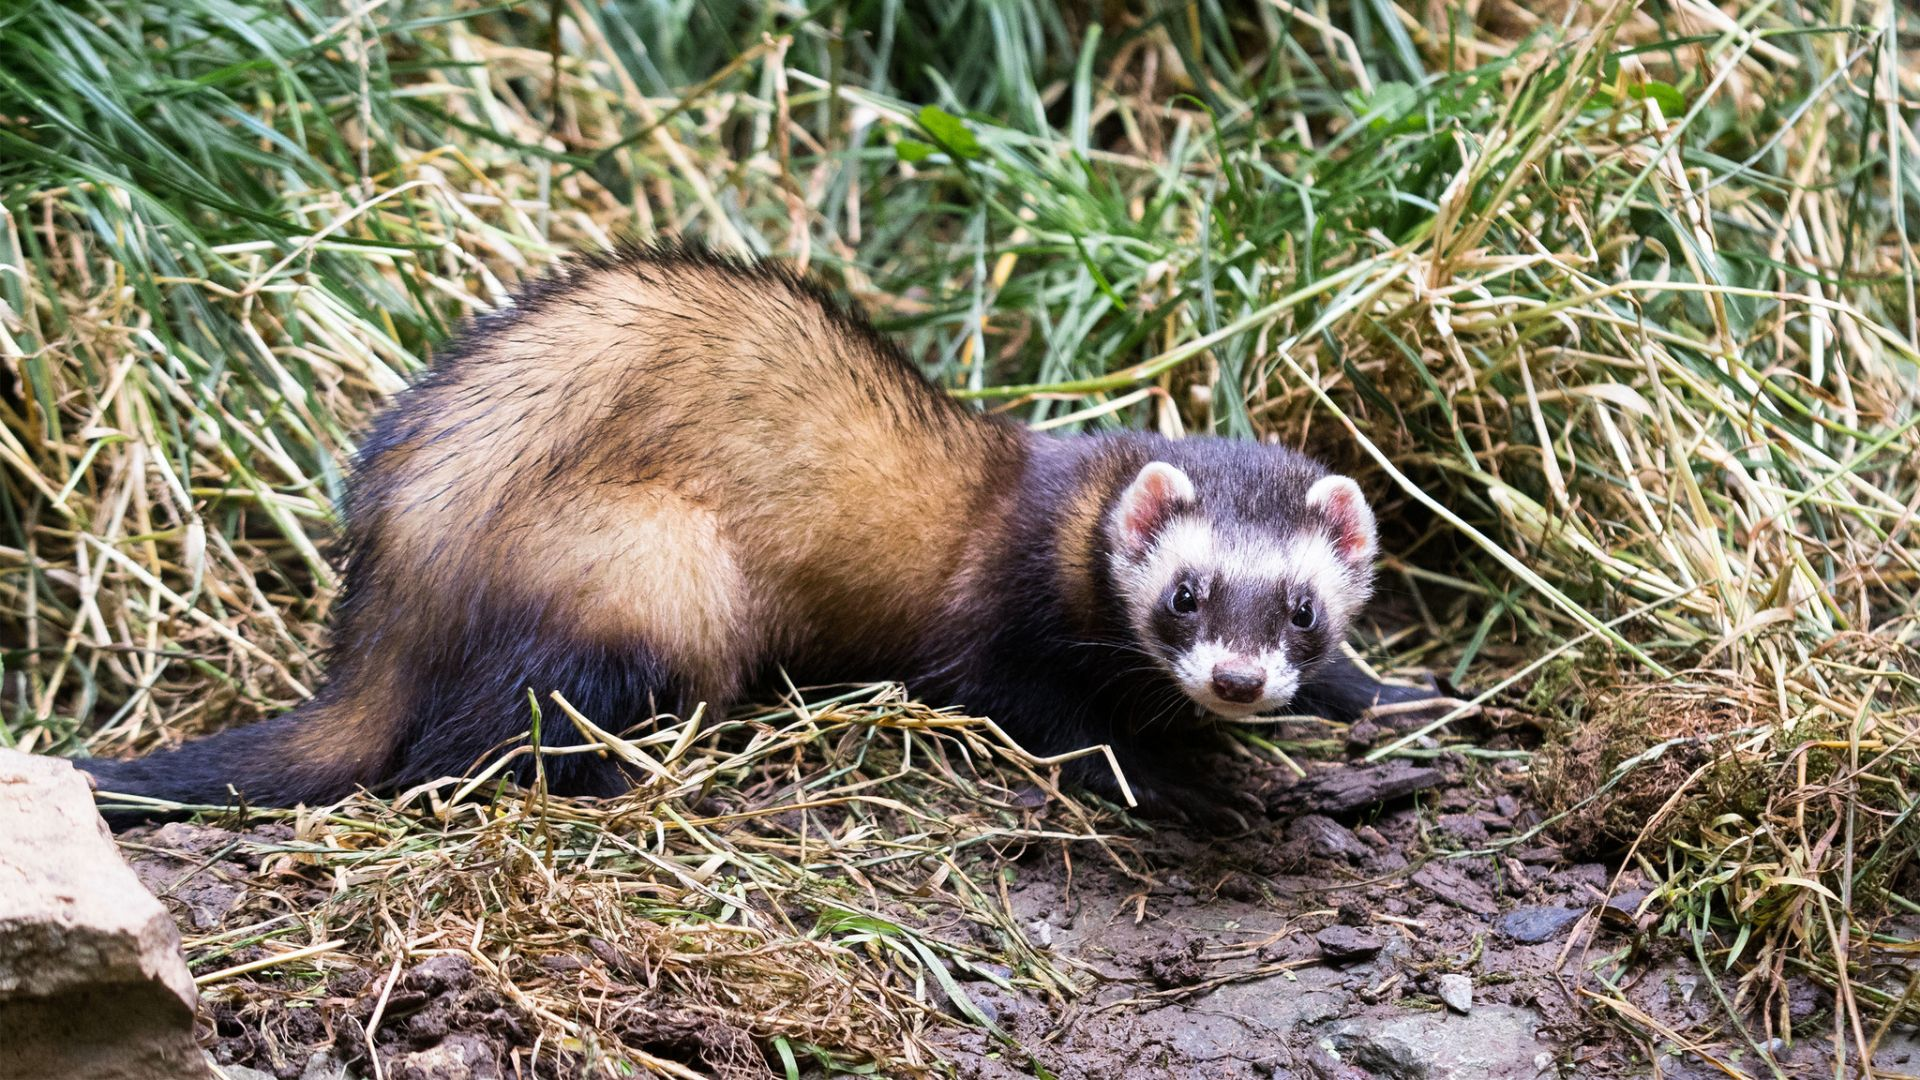Talulah: (108, 235, 1393, 823)
